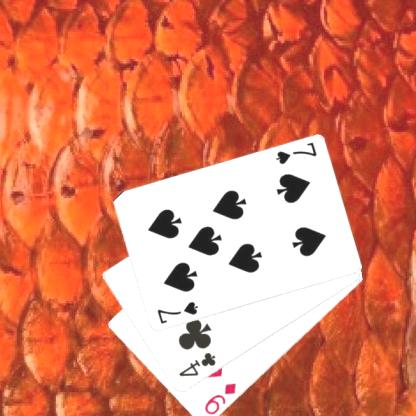4C: (176, 349, 218, 379)
7S: (272, 139, 318, 166), (154, 299, 199, 326)
9D: (202, 380, 237, 416)
